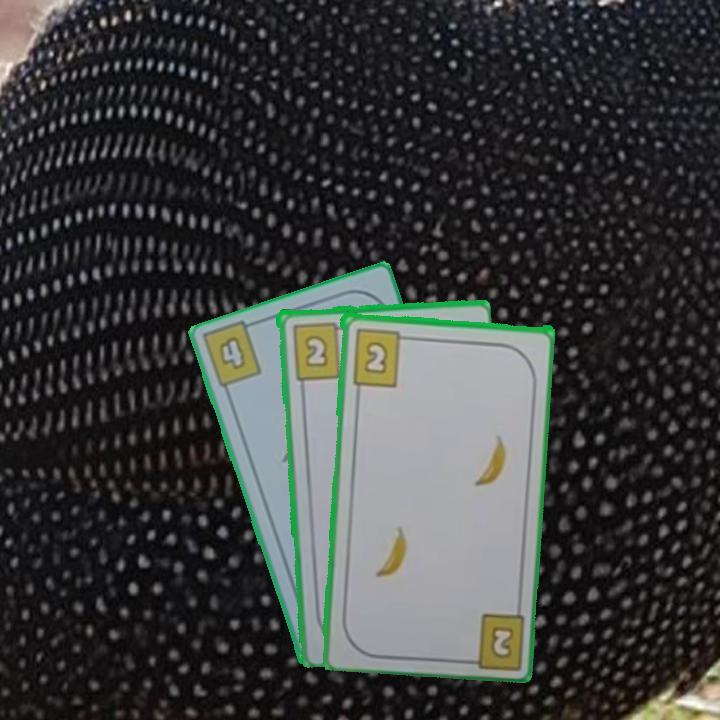2b: (348, 325, 413, 388), (288, 318, 350, 382), (487, 621, 516, 658)
4b: (214, 332, 249, 373)
